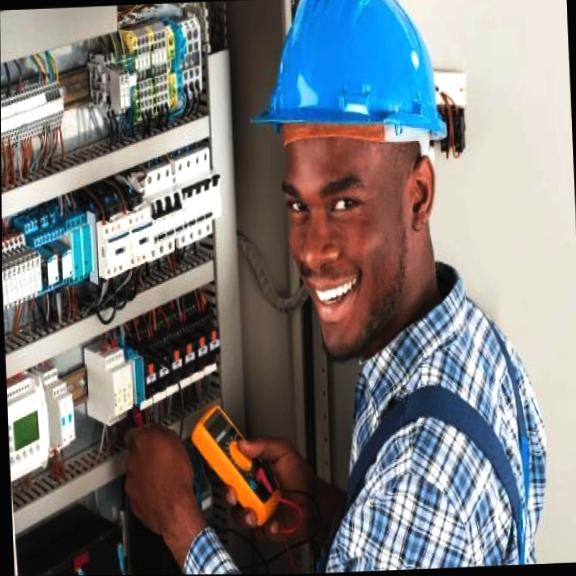no_safety_vest: (307, 287, 546, 573)
